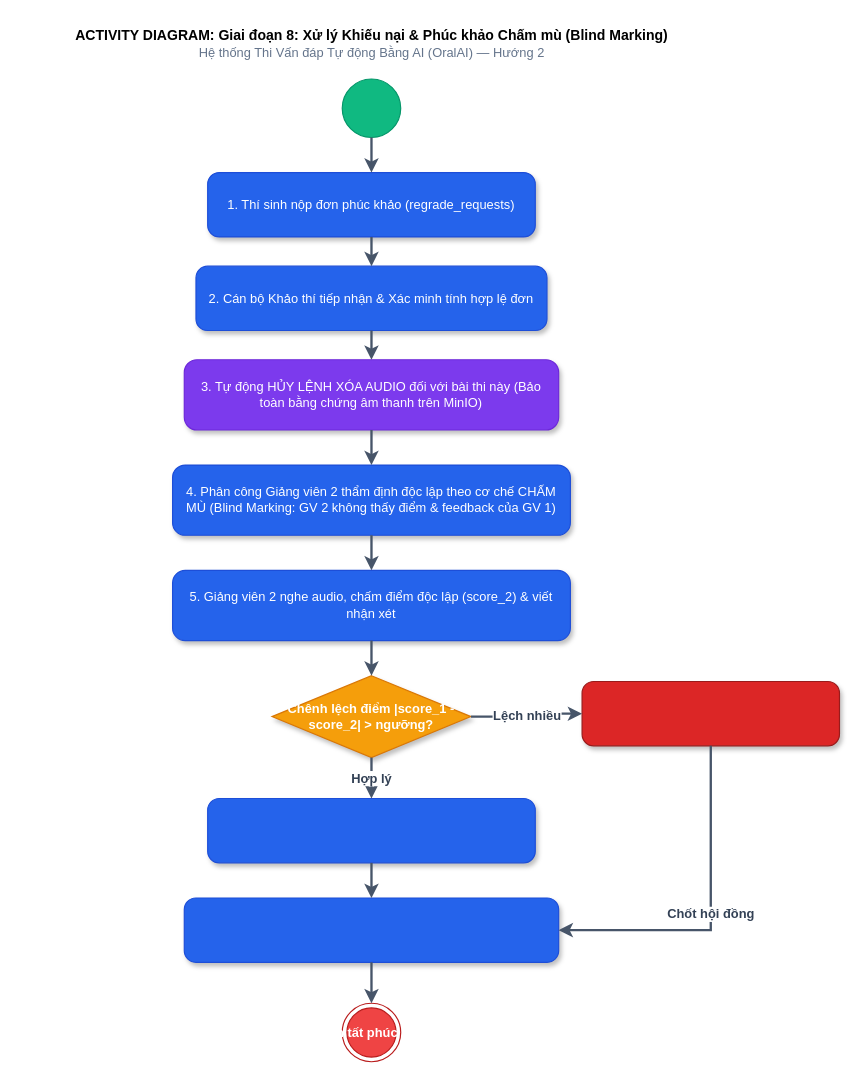
This 867x1082 diagram has some shape labels left out. Here are the shapes that lost their labels. From the top down, the centre of each, then its label:
At (371,107): "Đơn khiếu nại".
At (711,715): "Chuyển Hội đồng Khảo thí họp đối chất Chốt điểm cuối cùng".
At (372,832): "Tính điểm trung bình hoặc lấy điểm Giảng viên 2".
At (372,931): "6. Chốt điểm phúc khảo chính thức final_score & Cập nhật kết quả".
